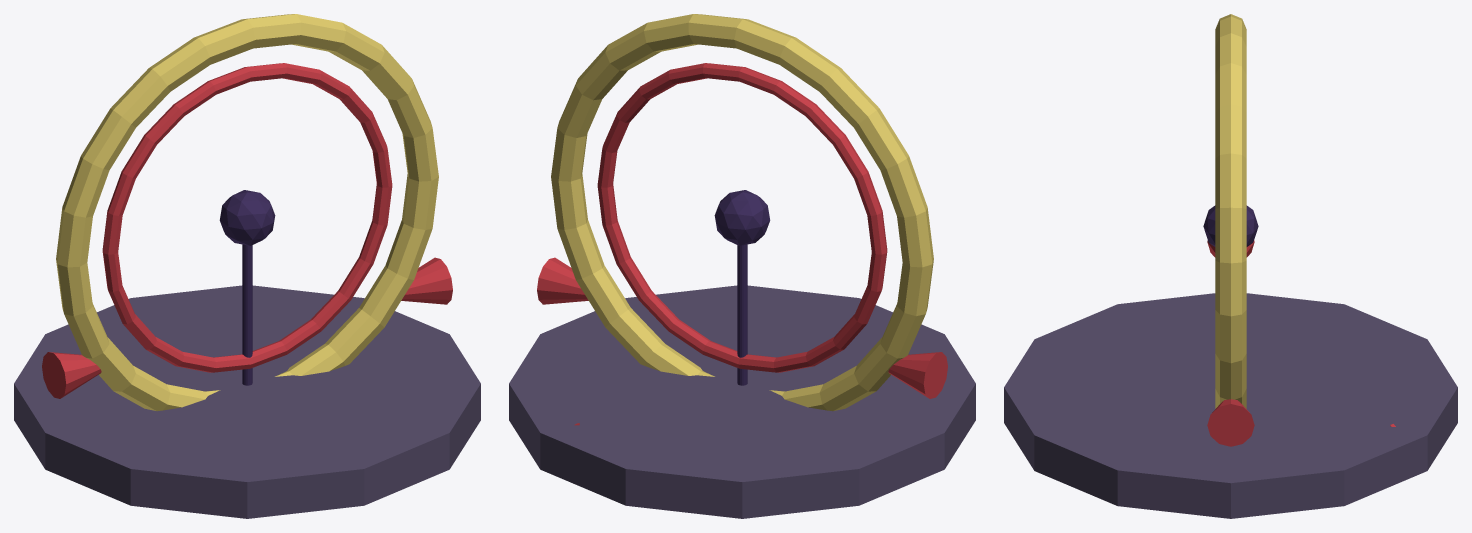
Rendered from gate-zenith.glb.
3 renders of one model, left to right at view 1: azimuth 30°, elevation 25°; view 2: azimuth 150°, elevation 25°; view 3: azimuth 270°, elevation 25°, orthographic. The views are drawn at different scales.
Visible parts, largest first — view 1: zenith-dais, zenith-gate-ring-outer, zenith-gate-ring-inner, zenith-echo-deep-core, zenith-sigil-spike-0, zenith-sigil-spike-1, zenith-core-pillar; view 2: zenith-dais, zenith-gate-ring-outer, zenith-gate-ring-inner, zenith-echo-deep-core, zenith-sigil-spike-0, zenith-sigil-spike-1, zenith-core-pillar; view 3: zenith-dais, zenith-gate-ring-outer, zenith-sigil-spike-1, zenith-echo-deep-core.
Part boxes in pixels (x1,y1,x2,y2): zenith-dais: (14, 285, 480, 518); zenith-gate-ring-outer: (56, 14, 438, 411); zenith-gate-ring-inner: (102, 63, 392, 372); zenith-echo-deep-core: (219, 190, 275, 245); zenith-sigil-spike-0: (42, 352, 101, 398); zenith-sigil-spike-1: (401, 257, 452, 304); zenith-core-pillar: (242, 244, 252, 385); zenith-dais: (509, 285, 975, 518); zenith-gate-ring-outer: (551, 14, 933, 411); zenith-gate-ring-inner: (597, 63, 887, 372); zenith-echo-deep-core: (714, 190, 770, 245); zenith-sigil-spike-0: (888, 352, 947, 398); zenith-sigil-spike-1: (537, 257, 588, 304); zenith-core-pillar: (737, 244, 747, 385); zenith-dais: (1004, 293, 1457, 518); zenith-gate-ring-outer: (1215, 14, 1246, 408); zenith-sigil-spike-1: (1207, 399, 1254, 446); zenith-echo-deep-core: (1203, 205, 1258, 246).
Bounding box in the file's own units: 2.3 × 2.18 × 2.3.
